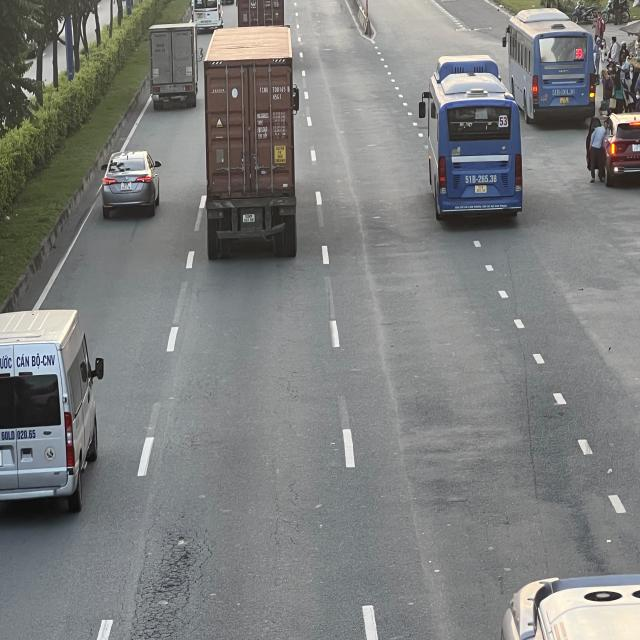car: (100, 154, 162, 221), (592, 113, 640, 180)
coach: (418, 52, 526, 222), (506, 11, 597, 125)
container: (208, 26, 304, 260)
truck: (152, 21, 201, 106)
van: (0, 310, 103, 513)
